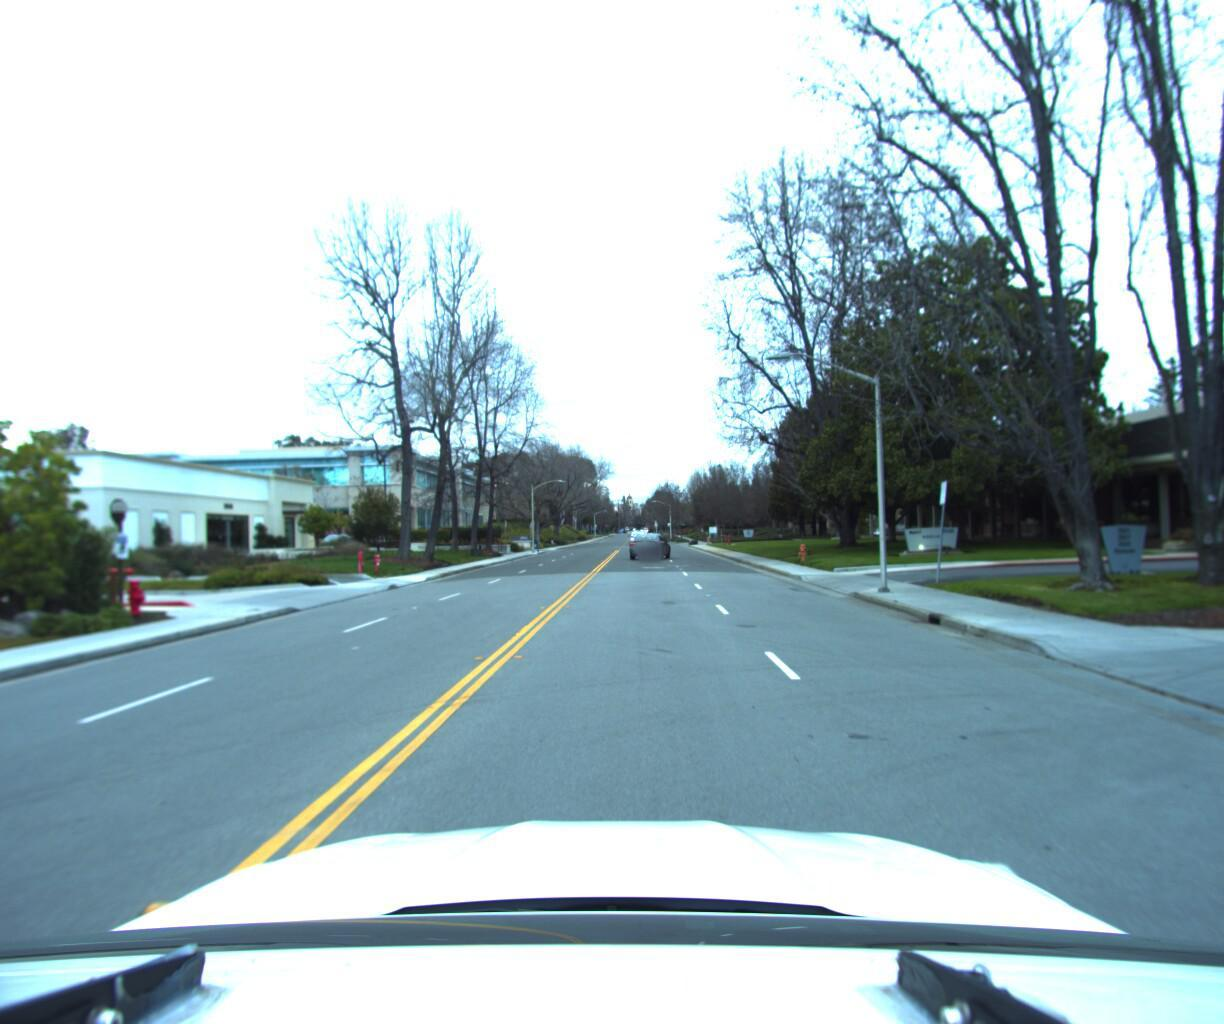car: (625, 531, 673, 557)
